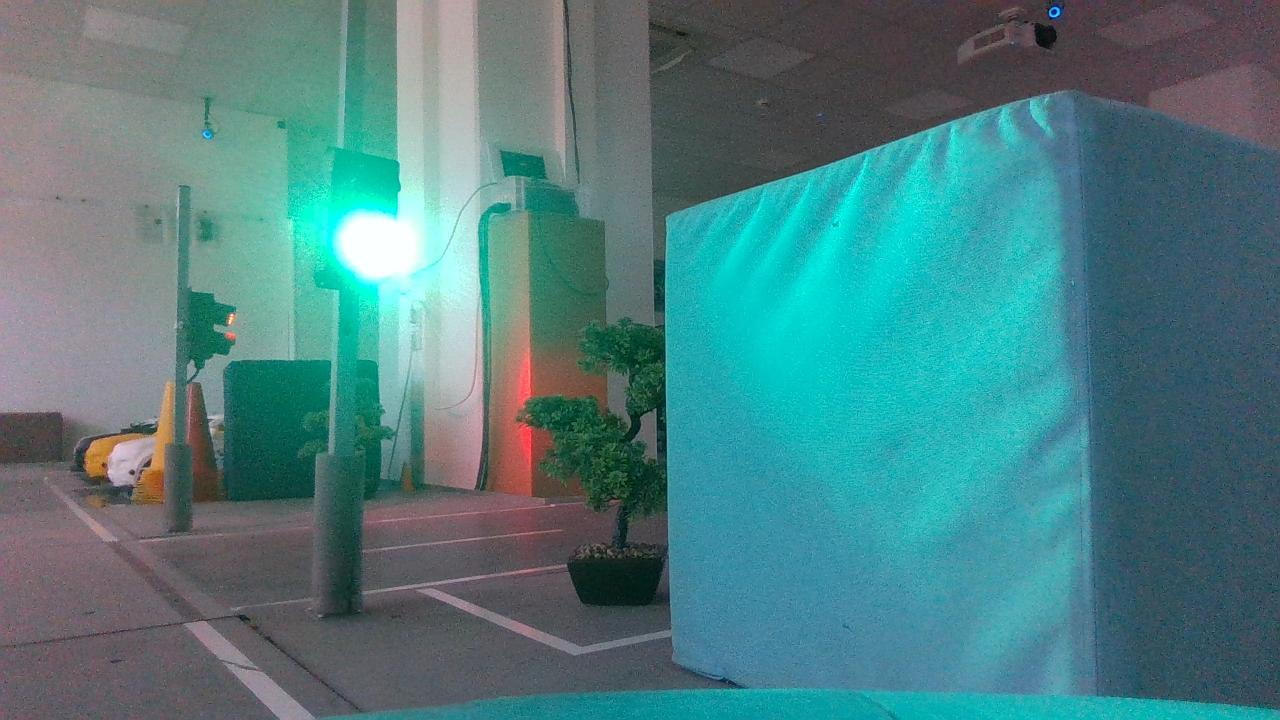traffic_light_green: (294, 134, 432, 305)
